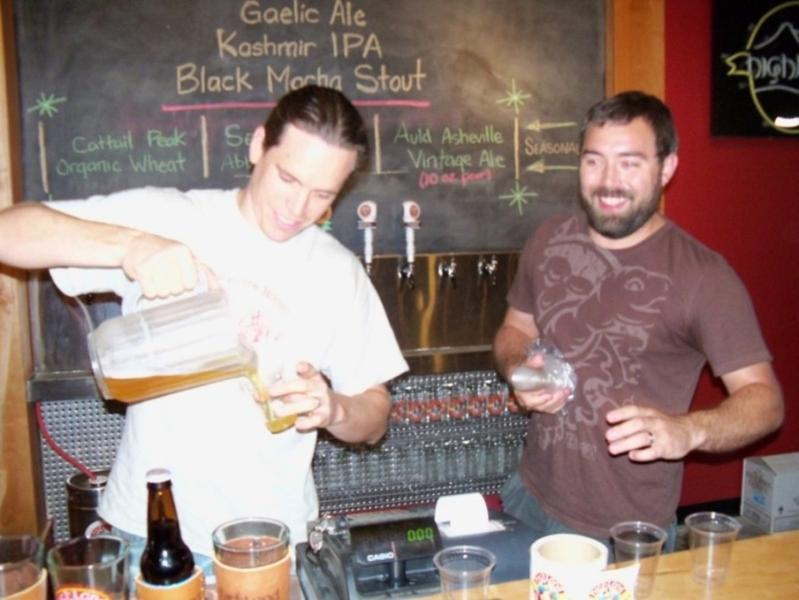person: (5, 85, 410, 584)
